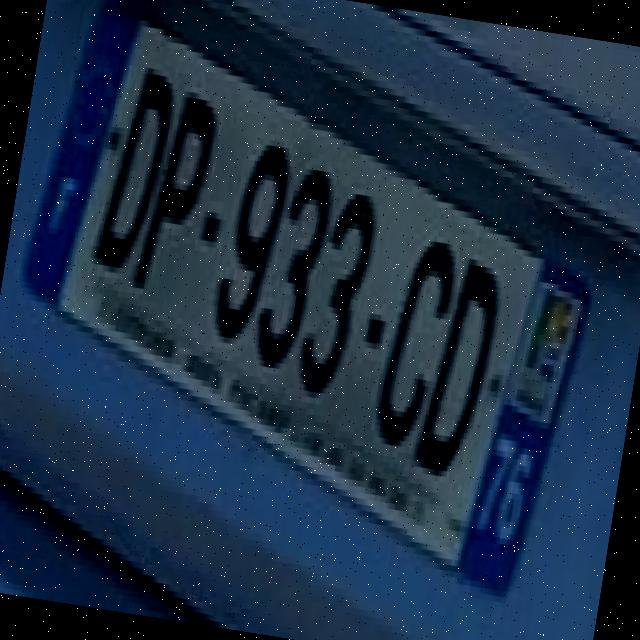EU: (21, 0, 594, 590)
France: (16, 0, 144, 313)
